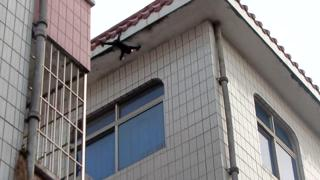UAV: (100, 30, 144, 62)
